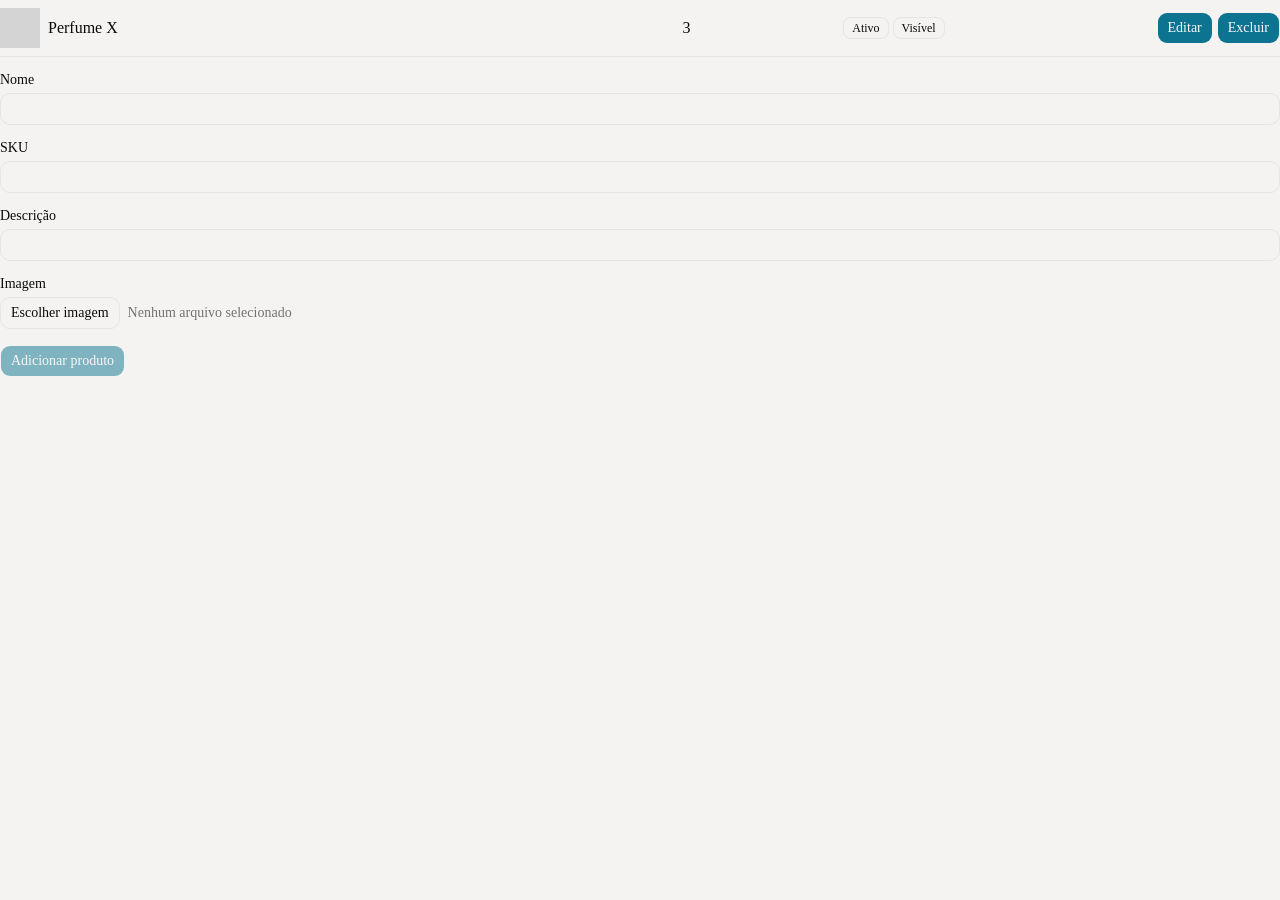
Test: ProductList › shows an error message when saving a product edit fails
Click the button with aria-label "editar perfume x": {"x": 1185, "y": 28} [1156,12,1213,44]
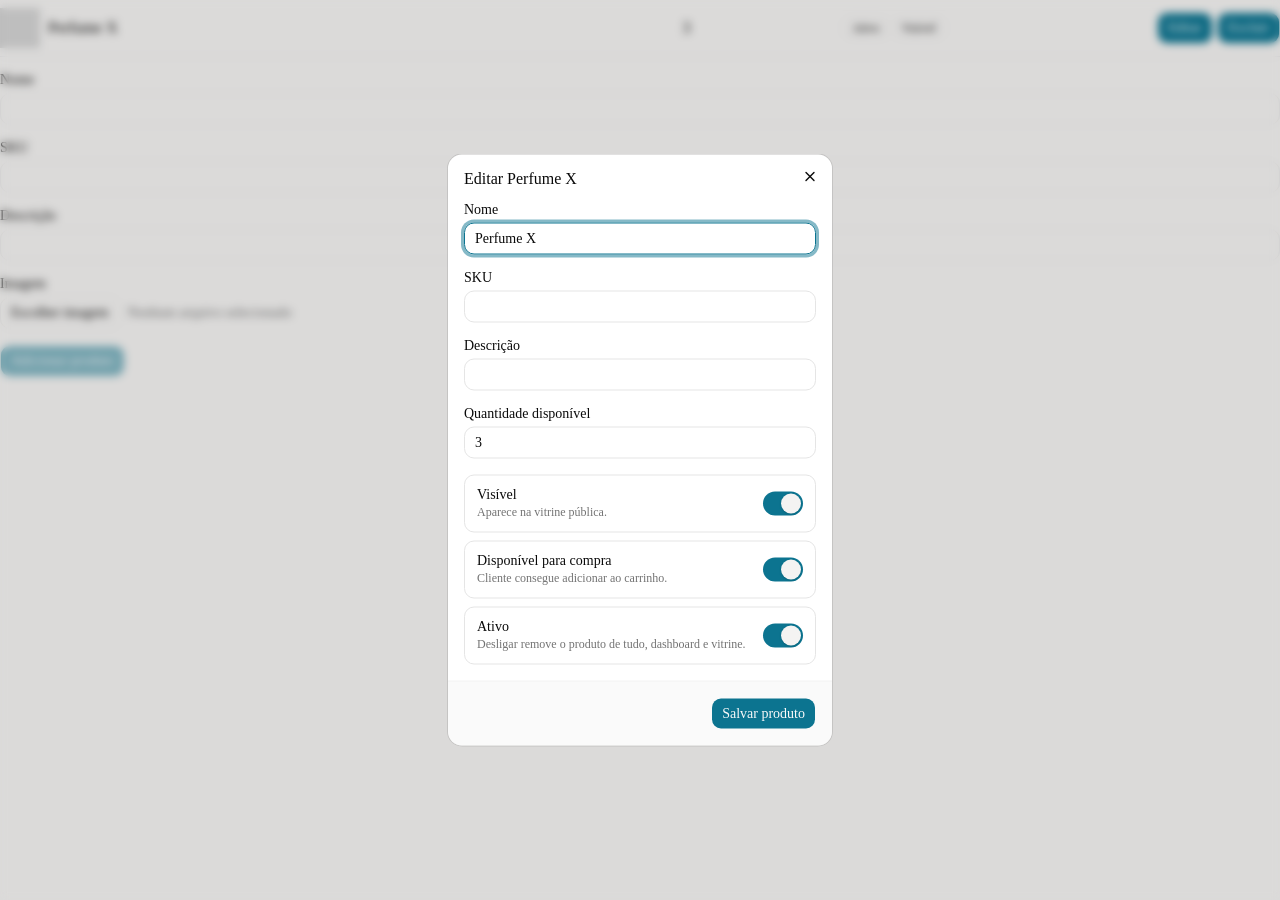
Click the button "Salvar produto": {"x": 764, "y": 714} [711,698,816,730]
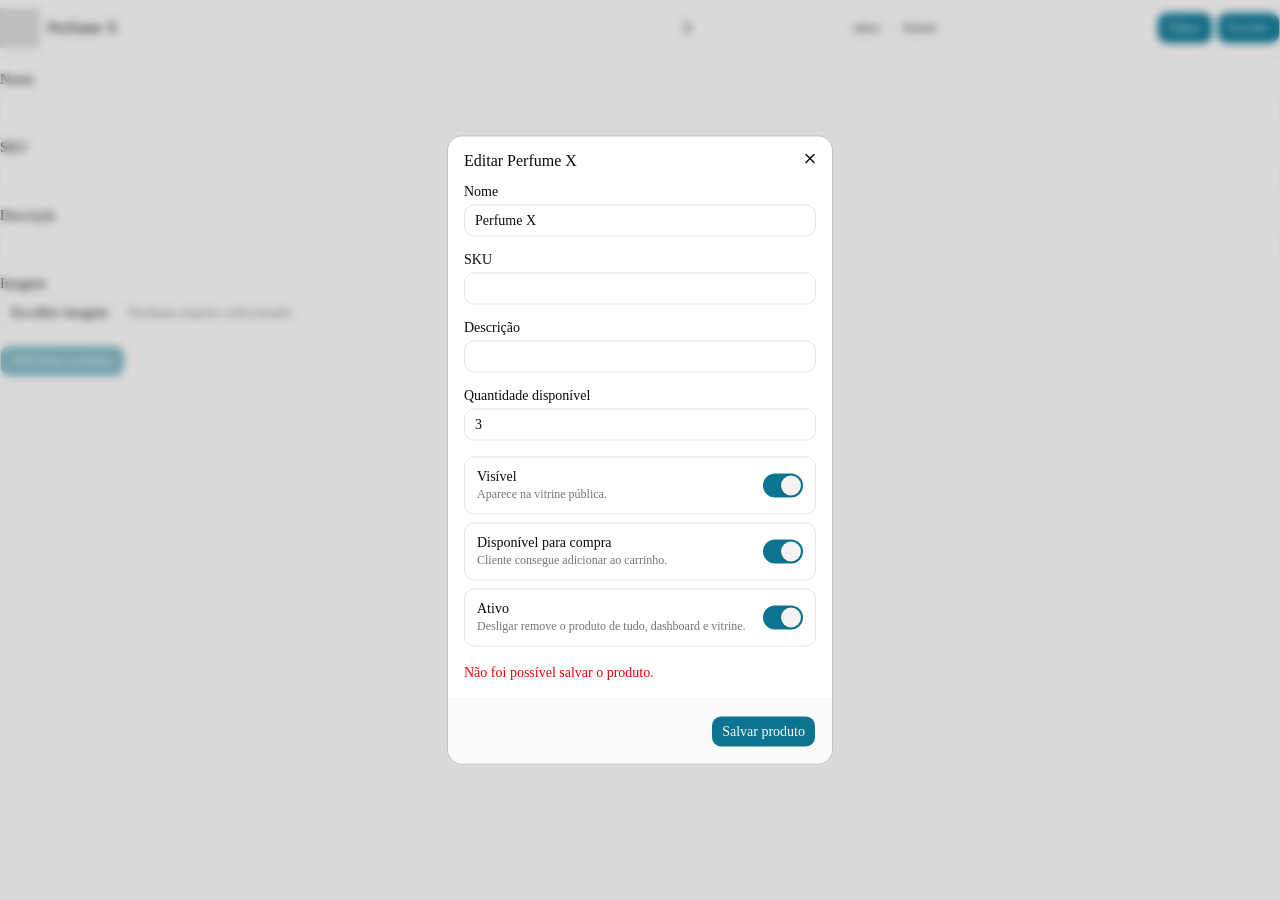
Check: the text "Não foi possível salvar o produto." is shown, box [464,664,654,680]
